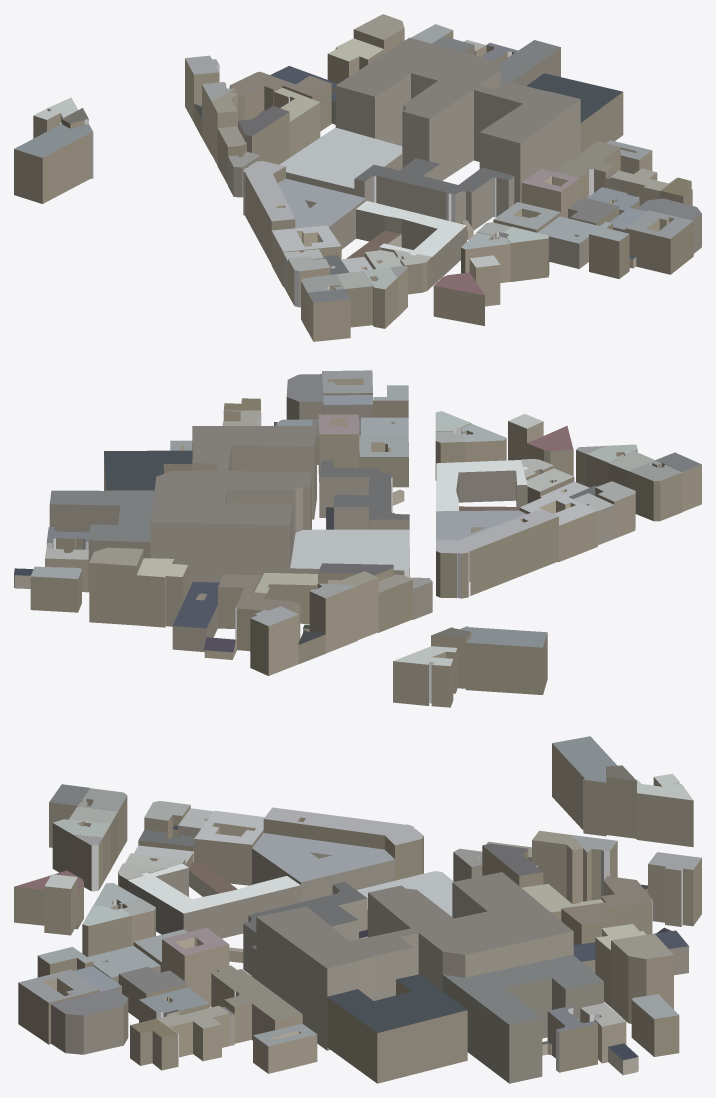
The picture shows the model from 3 angles, top to bottom: view 1: azimuth 30°, elevation 25°; view 2: azimuth 150°, elevation 25°; view 3: azimuth 270°, elevation 25°; orthographic projection. The views are drawn at different scales.
Parts seen in each view (by area): view 1: tuile; view 2: tuile; view 3: tuile.
Boxes of the visible parts, box(x1,y1,x2,y2) form: tuile: box(14, 14, 701, 341); tuile: box(14, 370, 701, 707); tuile: box(14, 736, 701, 1083).
Size of the model in its own units: 281 by 37.73 by 278.
